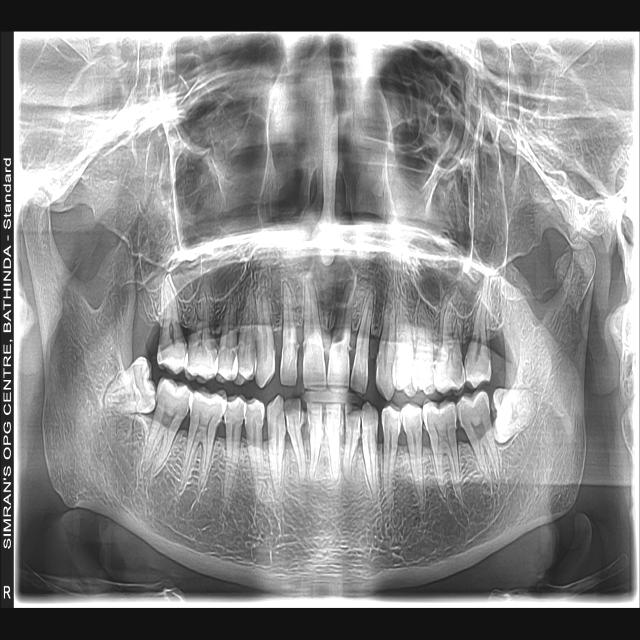impacted tooth: (104, 356, 156, 415), (494, 388, 536, 444)
